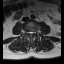CCS_normal: (30, 30, 32, 38)
LFS_stenosis: (34, 30, 36, 35)
LLS_stenosis: (32, 30, 34, 35)
RFS_stenosis: (26, 30, 28, 36)
RLS_stenosis: (28, 30, 30, 35)
